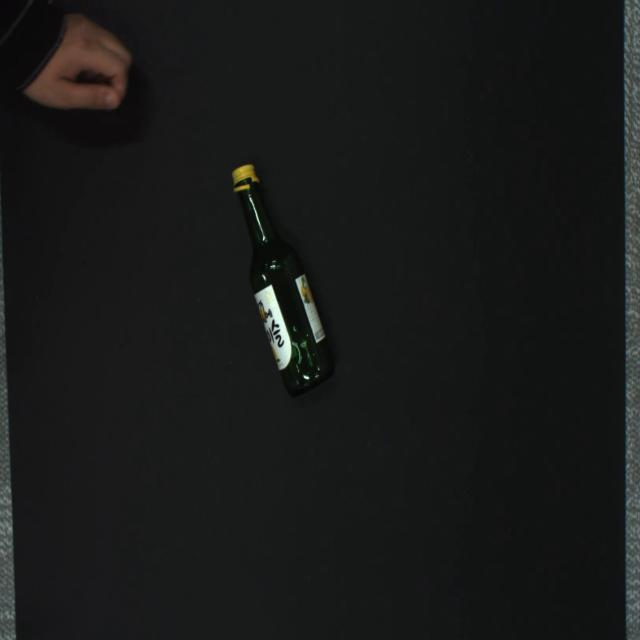soju-bottle: (233, 164, 334, 396)
